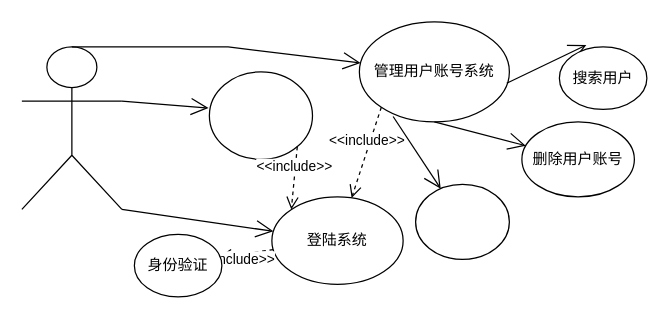
Some shapes in this 669 by 319 pixel diagram are drawn without their labels. Here are the shapes that lost their labels. From the top down, the box of each, then its label:
(21, 46, 122, 209): 管理员
(208, 71, 312, 159): 修改用户个人信息
(414, 183, 509, 259): 修改用户账号
